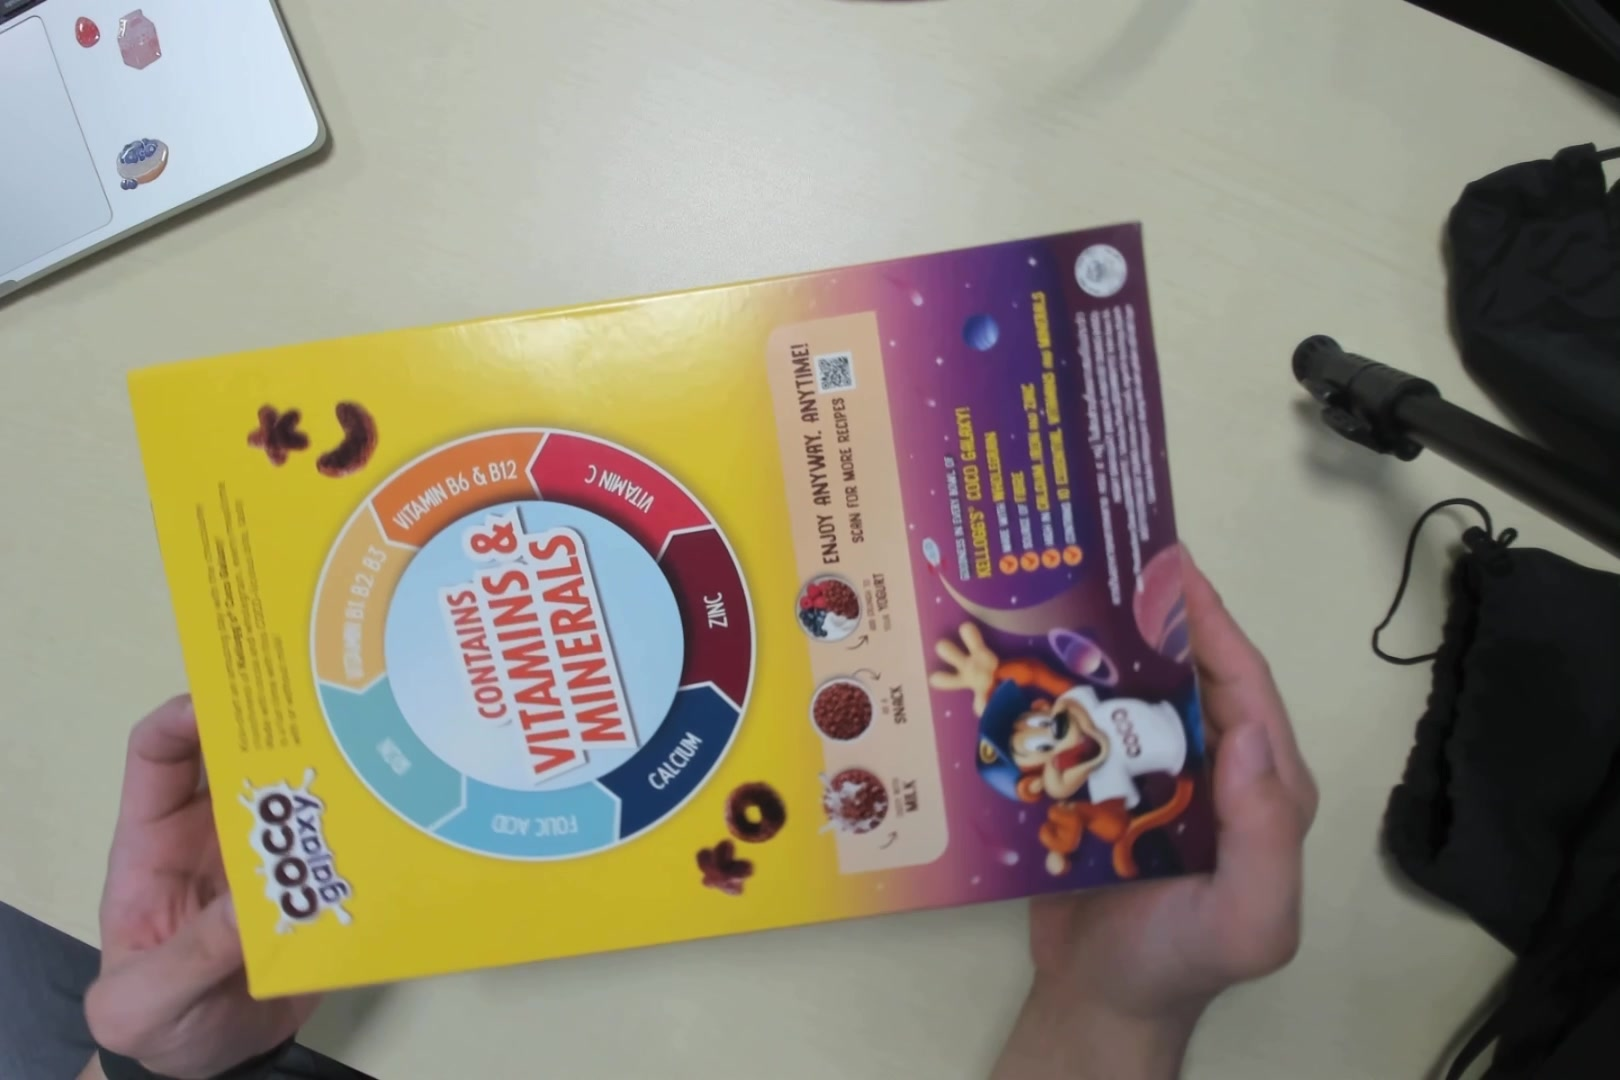BreakfastCereals_300-399g_Halal_NonHealthy: (121, 219, 1213, 990)
